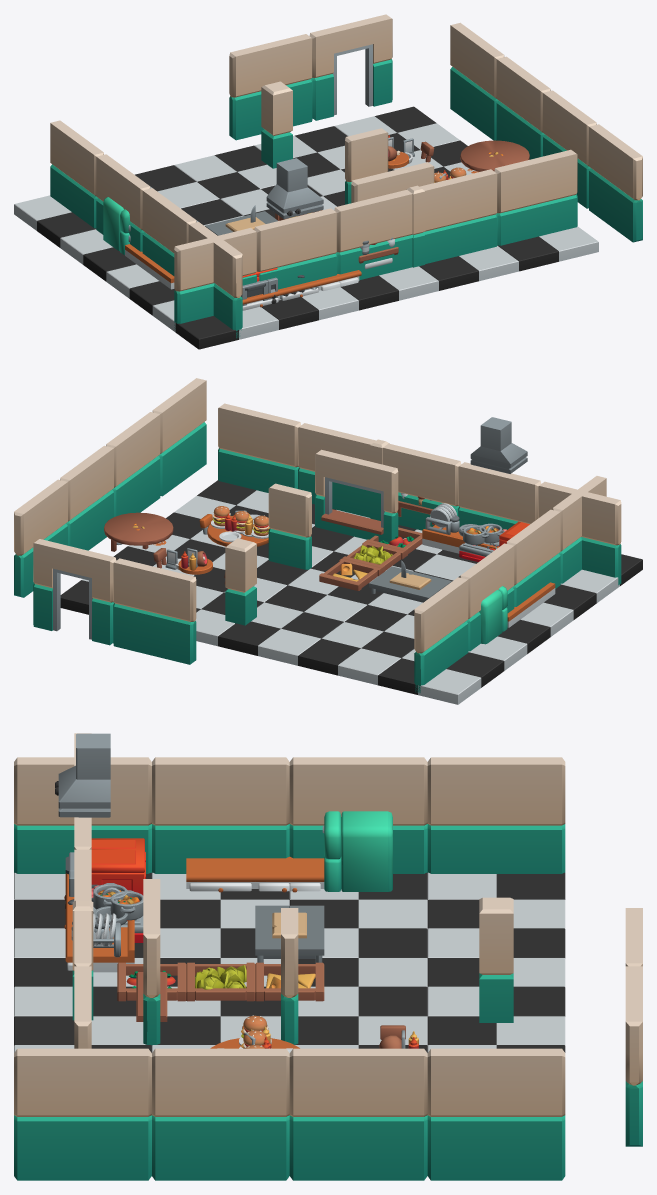
Rendered from restaurant_level.glb.
The picture shows the model from 3 angles, top to bottom: view 1: azimuth 30°, elevation 25°; view 2: azimuth 150°, elevation 25°; view 3: azimuth 270°, elevation 25°; orthographic projection. The views are drawn at different scales.
Parts seen in each view (by area): view 1: wall.004, wall.013, wall_doorway, wall.002, wall.003, wall.001, wall.009, wall.012, wall, wall.008, wall.011, floor_kitchen.011 (+31 smaller); view 2: wall.013, wall.004, wall_doorway, wall_orderwindow, wall.008, floor_kitchen.007, wall.009, wall.001, floor_kitchen.011, wall.010, wall.002, wall.011 (+36 smaller); view 3: wall.011, wall.012, wall.009, wall.010, wall.008, wall.006, wall.007, wall.005, floor_kitchen.010, floor_kitchen.006, floor_kitchen.011, floor_kitchen.007 (+35 smaller).
Part boxes in pixels (x1,y1,x2,y2): wall.004: (494,149,577,245); wall.013: (229,34,312,140); wall_doorway: (309,14,392,120); wall.002: (334,190,413,280); wall.003: (420,169,497,263); wall.001: (254,208,337,289); wall.009: (589,124,642,242); wall.012: (450,22,504,140); wall: (174,228,257,329); wall.008: (50,120,103,228); wall.011: (496,56,550,159); floor_kitchen.011: (174,145,276,198); wall.013: (113,558,196,664); wall.004: (218,403,301,492); wall_doorway: (33,539,116,645); wall_orderwindow: (315,449,398,543); wall.008: (414,577,468,692); floor_kitchen.007: (298,622,414,685); wall.009: (152,378,206,496); wall.001: (458,462,541,529); floor_kitchen.011: (218,602,343,665); wall.010: (106,412,160,516); wall.002: (383,443,461,530); wall.011: (60,445,113,550); wall.011: (289,1048,427,1180); wall.012: (427,1048,565,1180); wall.009: (14,1048,151,1180); wall.010: (152,1048,289,1180); wall.008: (427,757,565,873); wall.006: (152,757,289,873); wall.007: (289,757,427,873); wall.005: (14,757,151,873); floor_kitchen.010: (298,958,427,1016); floor_kitchen.006: (289,899,427,958); floor_kitchen.011: (427,958,565,1016); floor_kitchen.007: (427,899,565,957).
Bounding box in the file's own units: 22.25 × 6.5 × 18.25.
78 materials, 78 textured.
